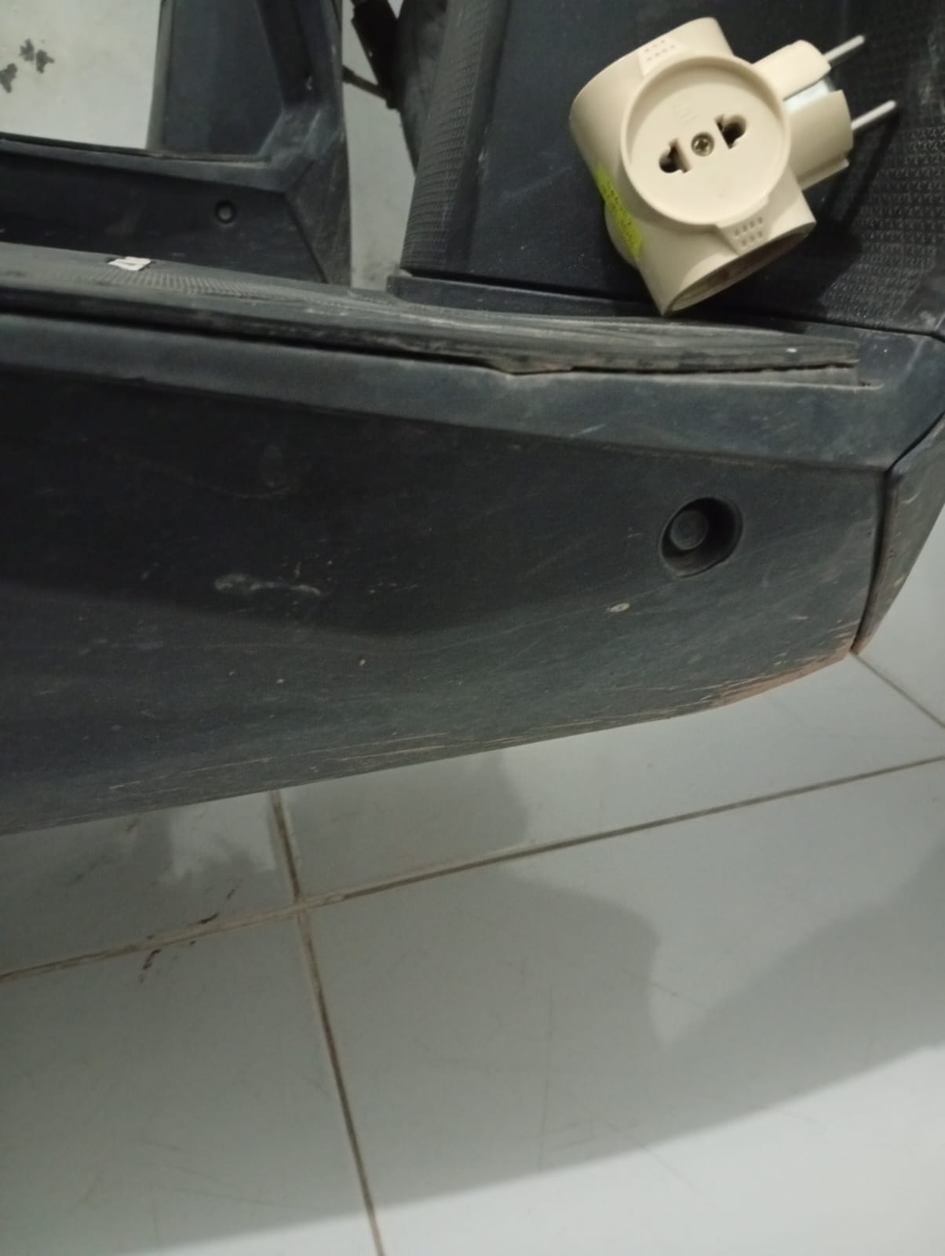Colokan: (544, 13, 910, 316)
